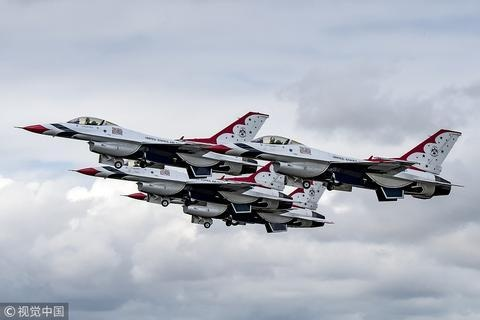airplane: (234, 126, 469, 205), (15, 108, 271, 161), (116, 172, 329, 232), (64, 150, 287, 192)
